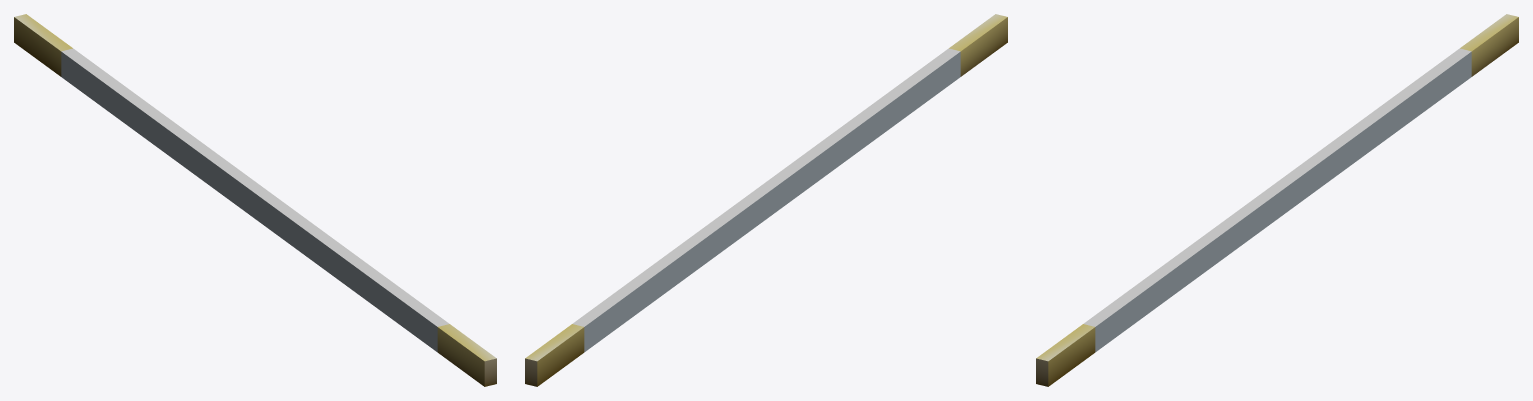
File: Grindrail01.gltf
3 renders of one model, left to right at view 1: azimuth 30°, elevation 25°; view 2: azimuth 150°, elevation 25°; view 3: azimuth 330°, elevation 25°, orthographic.
Visible parts, largest first — view 1: Grindrail01Mesh; view 2: Grindrail01Mesh; view 3: Grindrail01Mesh.
Boxes of the visible parts, left/top/right/bottom form: Grindrail01Mesh: left=14, top=14, right=496, bottom=386; Grindrail01Mesh: left=525, top=14, right=1007, bottom=386; Grindrail01Mesh: left=1036, top=14, right=1518, bottom=386.
Size of the model in its own units: 0.15 by 0.3 by 10.
